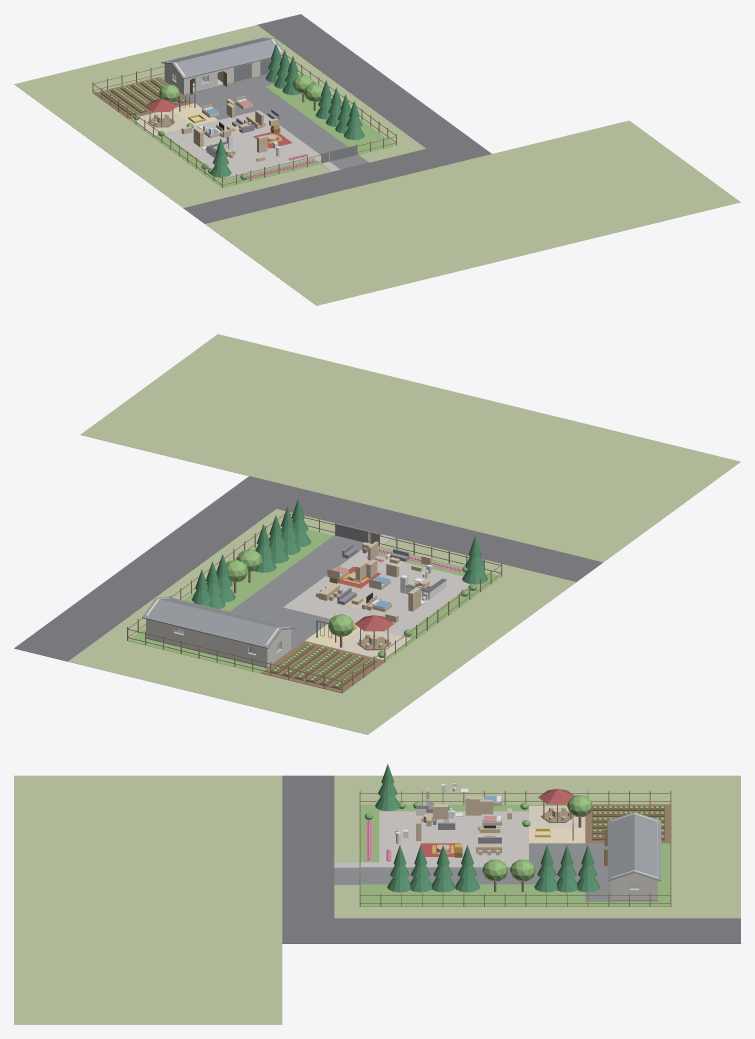
File: site.glb
The picture shows the model from 3 angles, top to bottom: view 1: azimuth 30°, elevation 25°; view 2: azimuth 150°, elevation 25°; view 3: azimuth 270°, elevation 25°; orthographic projection. The views are drawn at different scales.
Visible parts, largest first — view 1: Site_outside_front, Site_outside, Site_road_right, Site_road_front, Site_area0, Site_lawn, Site_area4, Site_Roof_garage, Site_area5, Site_area9, Site_area7, Site_area8; view 2: Site_outside_front, Site_outside, Site_road_right, Site_road_front, Site_area0, Site_lawn, Site_Roof_garage, Site_area4, Site_area9, Site_ob_wall_back_1a, Site_area5, Site_area7; view 3: Site_outside_front, Site_outside, Site_road_right, Site_road_front, Site_lawn, Site_area0, Site_Roof_garage, Site_area4, Site_area5, Site_area9, Site_area8, Site_area7 (+4 smaller).
Boxes of the visible parts, x1,y1,x2,y2 form: Site_outside_front: (205,120,740,305); Site_outside: (14,25,425,216); Site_road_right: (257,14,469,148); Site_road_front: (183,138,491,223); Site_area0: (165,110,321,179); Site_lawn: (96,73,395,187); Site_area4: (227,78,357,161); Site_Roof_garage: (161,37,283,79); Site_area5: (184,85,259,119); Site_area9: (93,77,194,119); Site_area7: (132,110,188,135); Site_area8: (173,103,217,125); Site_outside_front: (80,334,740,562); Site_outside: (15,509,597,734); Site_road_right: (14,495,276,661); Site_road_front: (223,476,602,581); Site_area0: (283,551,470,636); Site_lawn: (128,528,501,692); Site_Roof_garage: (142,597,295,648); Site_area4: (230,535,363,620); Site_area9: (261,641,385,692); Site_ob_wall_back_1a: (183,626,248,662); Site_area5: (265,607,330,650); Site_area7: (336,629,411,659); Site_outside_front: (14,775,282,1024); Site_outside: (334,775,740,918); Site_road_right: (334,918,740,943); Site_road_front: (282,775,334,943); Site_lawn: (360,804,670,906); Site_area0: (379,811,528,867); Site_Roof_garage: (607,812,661,881); Site_area4: (360,867,611,884); Site_area5: (529,843,607,867); Site_area9: (585,804,670,843); Site_area8: (529,828,585,843); Site_area7: (529,806,585,828).
Bounding box in the file's own units: 68 × 6.06 × 84.
